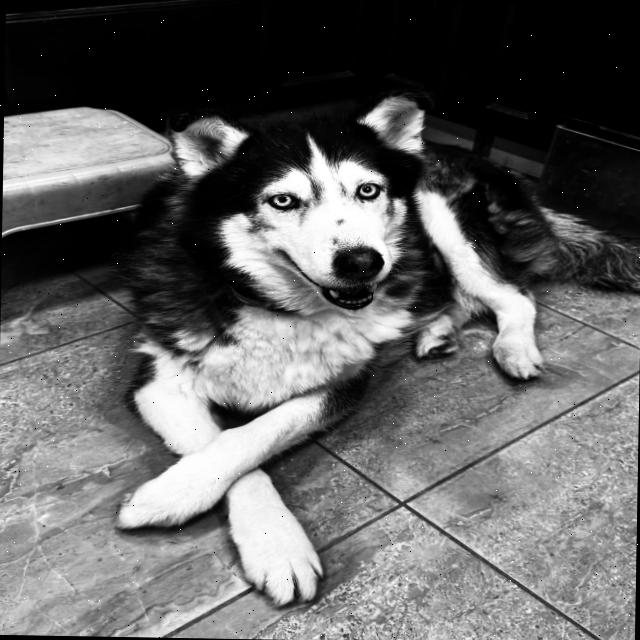siberian_husky_dog: (142, 70, 458, 331)
